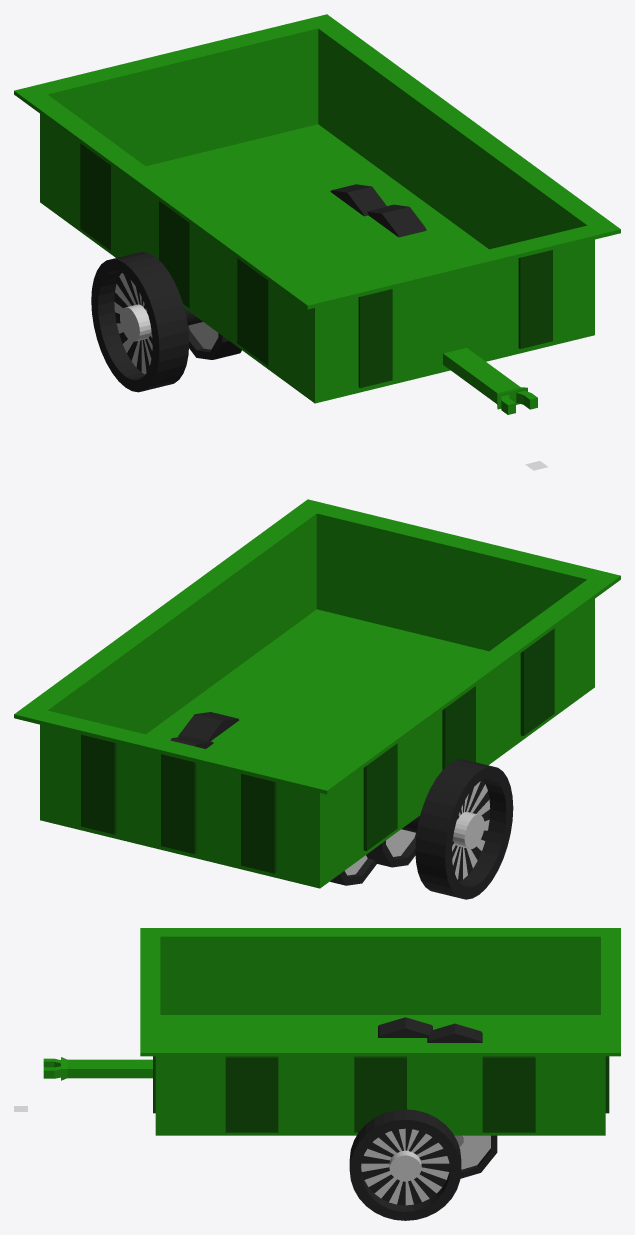
Rendered from tractor-wagon.glb.
3 renders of one model, top to bottom at view 1: azimuth 30°, elevation 25°; view 2: azimuth 150°, elevation 25°; view 3: azimuth 270°, elevation 25°, orthographic. The views are drawn at different scales.
Parts seen in each view (by area): view 1: wagon, axis, old-aggsis, left-tire; view 2: wagon, axis, old-aggsis, right-tire; view 3: wagon, axis, left-tire, old-aggsis, right-tire.
Boxes of the visible parts, left/top/right/bottom form: wagon: left=14, top=14, right=620, bottom=414; axis: left=91, top=252, right=202, bottom=392; old-aggsis: left=188, top=204, right=426, bottom=359; left-tire: left=330, top=184, right=386, bottom=216; wagon: left=14, top=499, right=620, bottom=888; axis: left=401, top=759, right=513, bottom=899; old-aggsis: left=178, top=712, right=416, bottom=867; right-tire: left=330, top=855, right=376, bottom=885; wagon: left=43, top=928, right=620, bottom=1135; axis: left=349, top=1109, right=461, bottom=1220; left-tire: left=454, top=1135, right=497, bottom=1178; old-aggsis: left=378, top=1017, right=432, bottom=1037; right-tire: left=427, top=1023, right=482, bottom=1042.
Size of the model in its own units: 7.05 by 3.73 by 12.82.
Materials: 1 (1 with a texture image).
